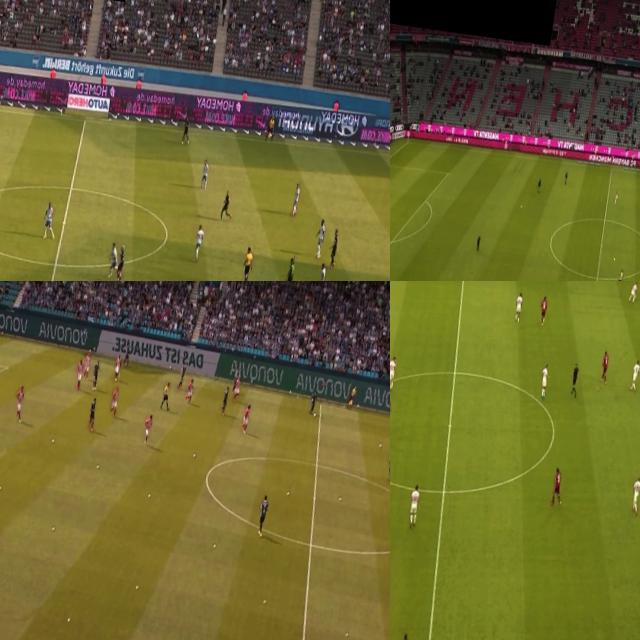ball: (610, 253, 618, 264), (190, 450, 198, 460), (132, 584, 140, 594), (343, 629, 350, 640), (210, 542, 217, 552), (50, 524, 56, 534), (262, 598, 268, 607), (146, 492, 152, 500), (95, 463, 100, 472), (50, 436, 55, 444), (66, 614, 70, 624), (337, 496, 342, 504), (519, 204, 523, 212), (285, 492, 290, 498), (378, 442, 383, 448), (313, 412, 316, 418), (0, 484, 2, 493)
player: (219, 185, 236, 222), (327, 227, 341, 270), (313, 219, 329, 256), (40, 200, 54, 242), (106, 240, 122, 276), (256, 492, 268, 538), (141, 408, 154, 448), (408, 486, 422, 523), (552, 467, 565, 506), (627, 356, 640, 393), (193, 223, 205, 263), (14, 382, 26, 422), (290, 180, 304, 213), (240, 403, 253, 438), (512, 292, 526, 324), (115, 247, 128, 281), (281, 254, 297, 281), (86, 398, 98, 434), (629, 477, 640, 514), (599, 352, 611, 384), (540, 362, 550, 398), (390, 351, 399, 390), (176, 362, 188, 391), (112, 354, 124, 381), (180, 116, 192, 142), (219, 384, 229, 414), (74, 360, 84, 390), (90, 361, 100, 391), (627, 281, 639, 306), (185, 377, 196, 404), (81, 354, 92, 381), (314, 263, 330, 281), (109, 389, 120, 415), (200, 160, 210, 186), (308, 388, 318, 414), (230, 370, 240, 393), (384, 448, 390, 483), (232, 378, 240, 403), (540, 295, 548, 320), (390, 393, 393, 428), (476, 235, 482, 250), (616, 269, 623, 281), (536, 178, 542, 192), (614, 190, 620, 203), (563, 172, 569, 184)
